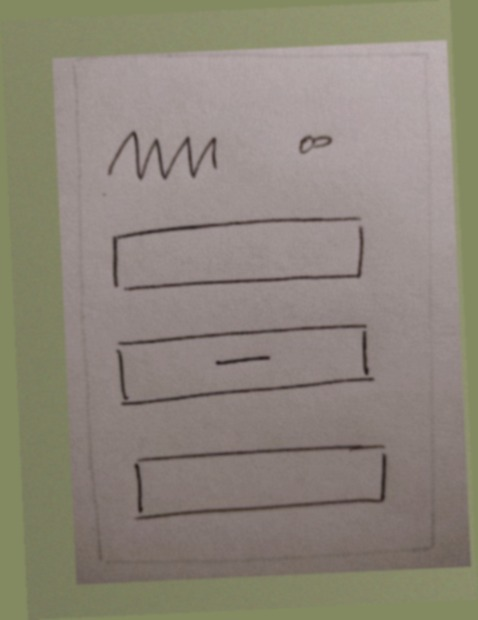button: (104, 318, 384, 409)
switch: (283, 121, 345, 164)
text: (97, 119, 228, 190)
text_input: (103, 209, 375, 303), (126, 433, 398, 527)
